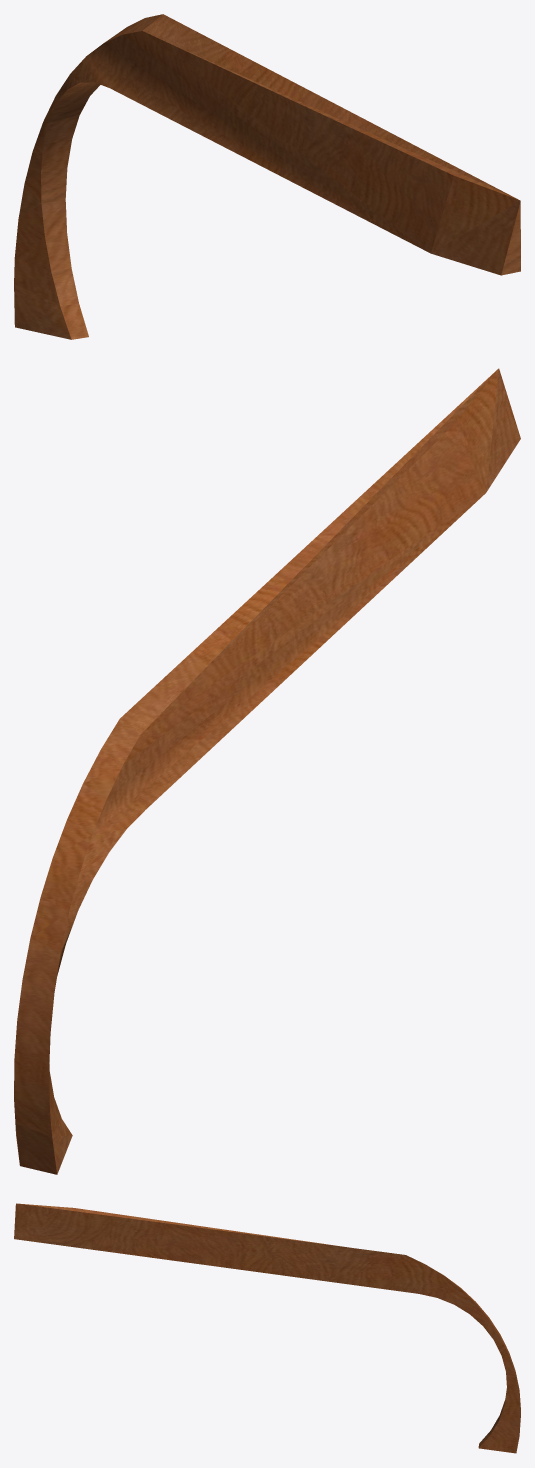
File: original-5.obj
The picture shows the model from 3 angles, top to bottom: view 1: azimuth 30°, elevation 25°; view 2: azimuth 150°, elevation 25°; view 3: azimuth 270°, elevation 25°; orthographic projection. The views are drawn at different scales.
Parts seen in each view (by area): view 1: mesh13/mesh13-geometry#mesh13-geometry; view 2: mesh13/mesh13-geometry#mesh13-geometry; view 3: mesh13/mesh13-geometry#mesh13-geometry.
Boxes of the visible parts, bbox=[...] form: mesh13/mesh13-geometry#mesh13-geometry: bbox=[14, 14, 520, 339]; mesh13/mesh13-geometry#mesh13-geometry: bbox=[14, 368, 520, 1174]; mesh13/mesh13-geometry#mesh13-geometry: bbox=[14, 1203, 520, 1453].
Size of the model in its own units: 0.0608 by 0.4926 by 0.9174.
